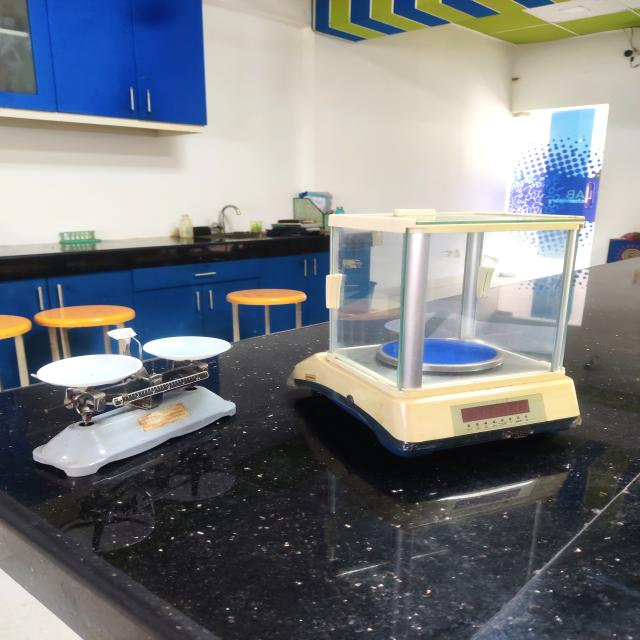Mechanical_Balance_Scale: (15, 326, 247, 493)
Precision_Weight_Scale: (273, 182, 600, 476)
